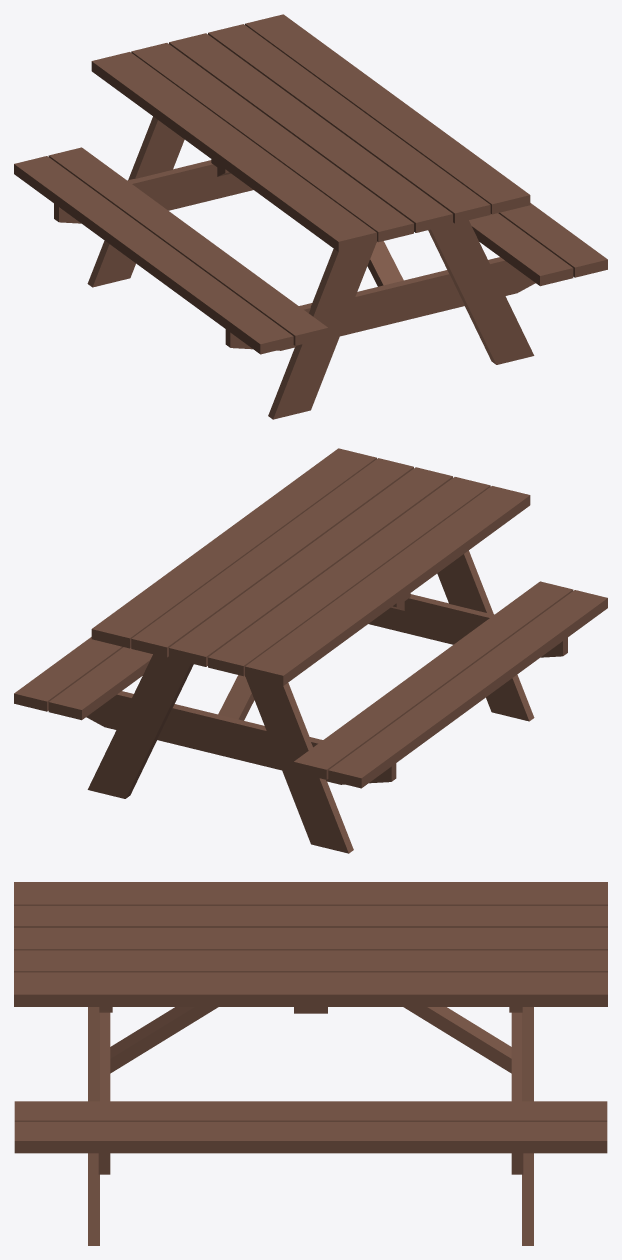
The model's file is Table.fbx.
3 views of the same model, one above another, from view 1: azimuth 30°, elevation 25°; view 2: azimuth 150°, elevation 25°; view 3: azimuth 270°, elevation 25° (orthographic). The views are drawn at different scales.
Parts seen in each view (by area): view 1: Cube; view 2: Cube; view 3: Cube.
Boxes of the visible parts, bbox=[...] form: Cube: bbox=[14, 14, 607, 419]; Cube: bbox=[14, 448, 607, 853]; Cube: bbox=[14, 882, 607, 1245].
Bounding box in the file's own units: 164 × 86.48 × 202.
